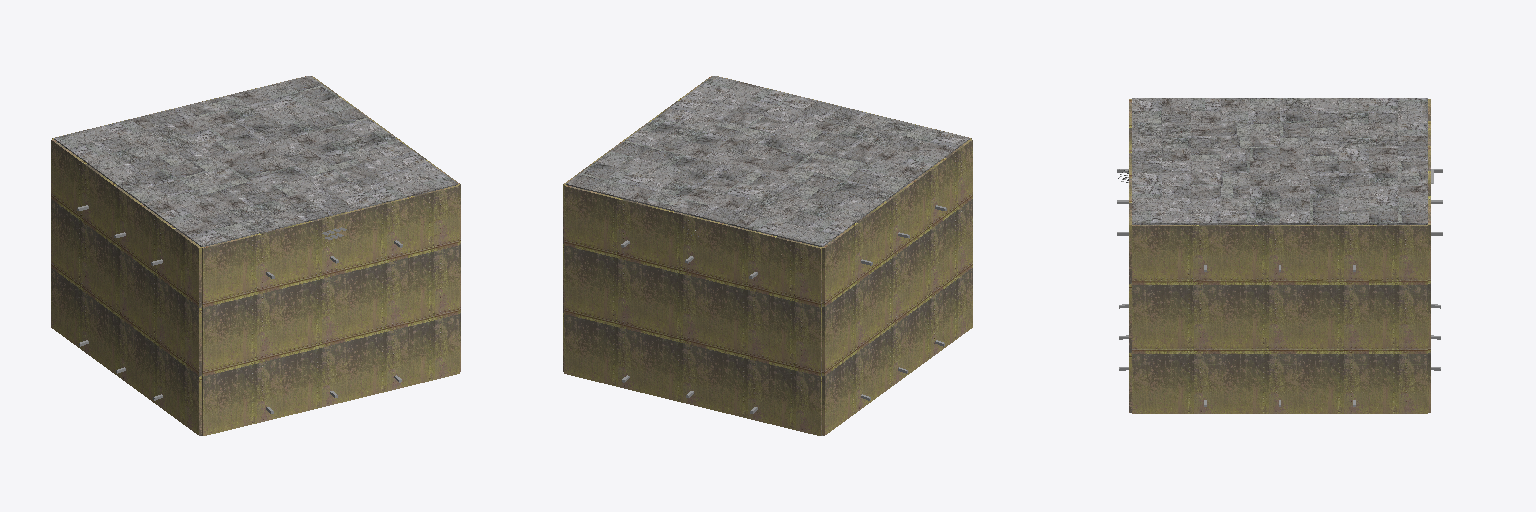
3 renders of one model, left to right at view 1: azimuth 30°, elevation 25°; view 2: azimuth 150°, elevation 25°; view 3: azimuth 270°, elevation 25°, orthographic.
Visible parts, largest first — view 1: Cube.003_Cube.004, Cube.002_Cube.001, Cube.001_Cube.002; view 2: Cube.006_Cube.015, Cube.002_Cube.001, Cube.001_Cube.002; view 3: Cube.005_Cube.014, Cube.002_Cube.001, Cube.006_Cube.015, Cube.003_Cube.004.
Part boxes in pixels (x1,y1,x2,y2): Cube.003_Cube.004: (202, 185, 459, 435); Cube.002_Cube.001: (54, 76, 457, 246); Cube.001_Cube.002: (51, 139, 201, 435); Cube.006_Cube.015: (564, 185, 821, 435); Cube.002_Cube.001: (566, 76, 969, 246); Cube.001_Cube.002: (822, 139, 972, 435); Cube.005_Cube.014: (1132, 225, 1427, 413); Cube.002_Cube.001: (1132, 98, 1427, 224); Cube.006_Cube.015: (1428, 99, 1430, 412); Cube.003_Cube.004: (1129, 99, 1131, 412).
Bounding box in the file's own units: 22 × 14.18 × 22.
6 materials, 3 textured.